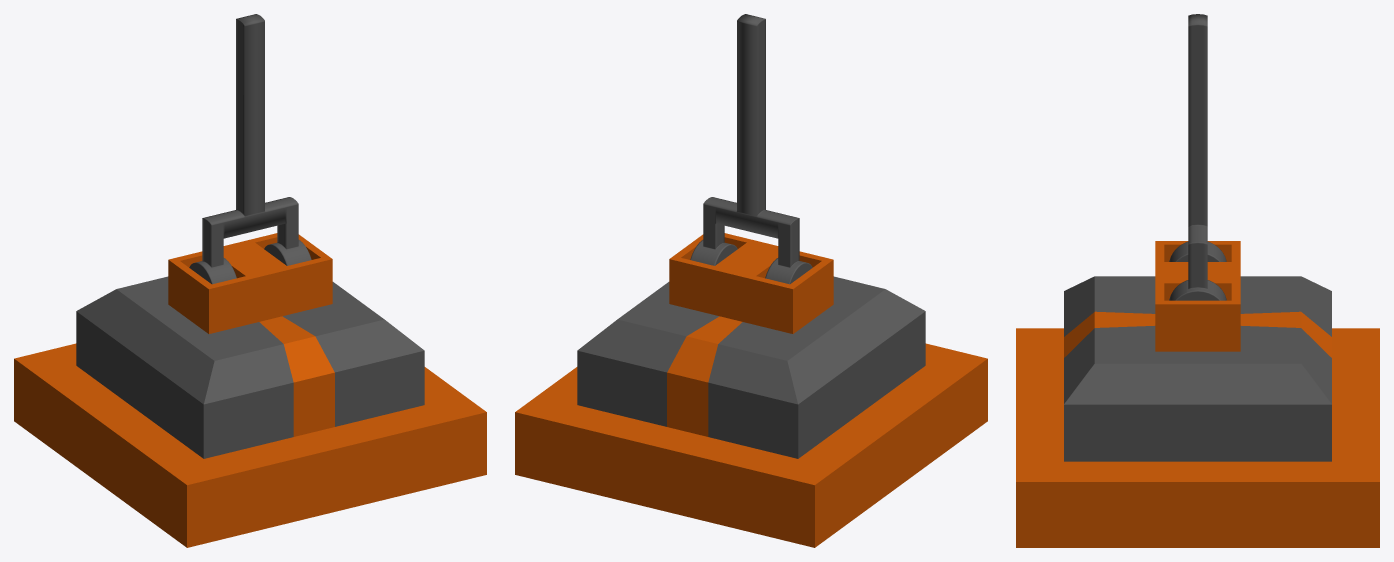
Rendered from Ramp.fbx.
3 views of the same model, side by side, from view 1: azimuth 30°, elevation 25°; view 2: azimuth 150°, elevation 25°; view 3: azimuth 270°, elevation 25° (orthographic). The views are drawn at different scales.
Visible parts, largest first — view 1: Cube, Cylinder; view 2: Cube, Cylinder; view 3: Cube, Cylinder.
Part boxes in pixels (box(x1,y1,x2,y2)): Cube: box(14, 233, 486, 547); Cylinder: box(189, 14, 311, 284); Cube: box(515, 233, 987, 547); Cylinder: box(690, 14, 812, 284); Cube: box(1016, 241, 1379, 547); Cylinder: box(1169, 14, 1226, 300).
Size of the model in its own units: 1 by 1.37 by 1.
